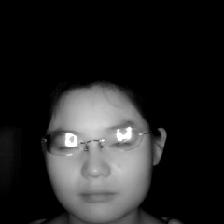normal: (25, 66, 170, 224)
